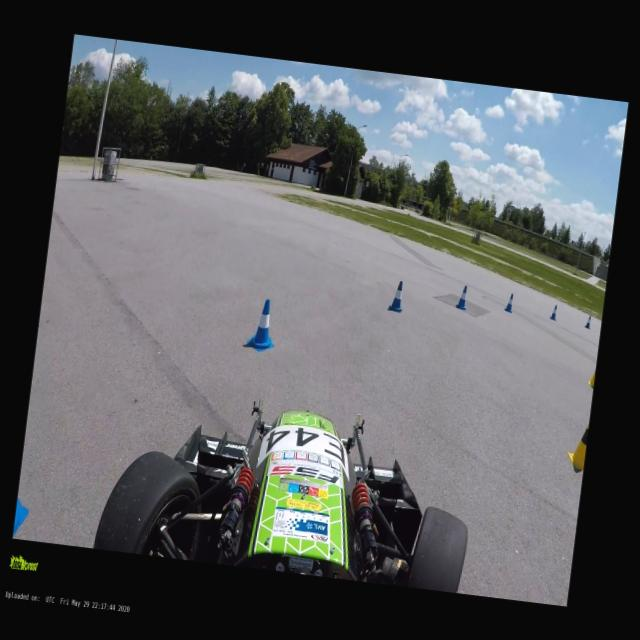blue_cone: (247, 298, 279, 352), (388, 280, 406, 312), (454, 284, 468, 310), (504, 292, 514, 314), (549, 304, 557, 321), (584, 315, 590, 329)
yellow_cone: (566, 412, 590, 473), (587, 358, 596, 390)
